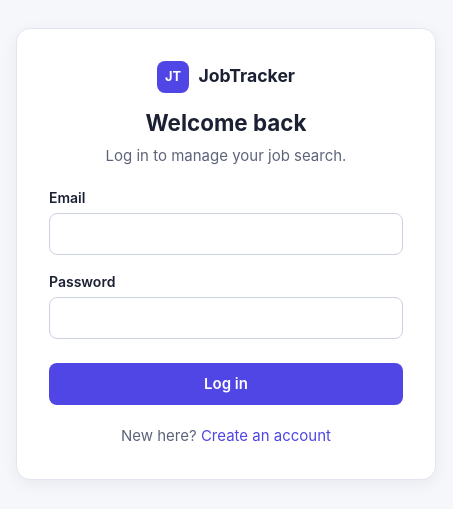
Scenario: Login page › rejects a malformed email address
Type "not-an-email" into the field labelled "Email" at point(226, 234), box [49,213,403,255]
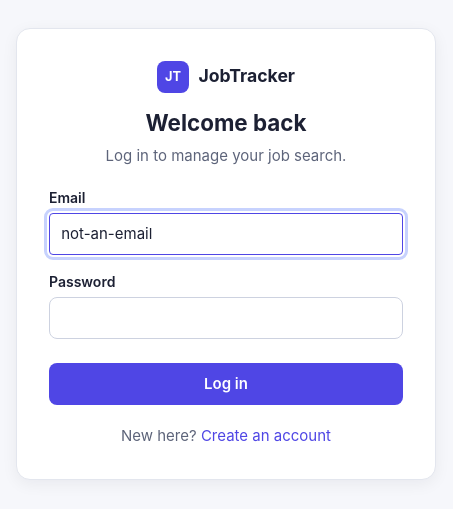
Type "Secret123" into the password field labelled "Password" at point(226, 318), box [49,297,403,339]
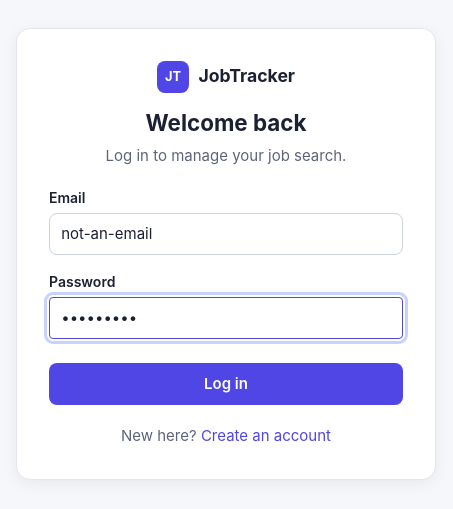
Click the button "Log in" at point(226, 384), box [49,363,403,405]
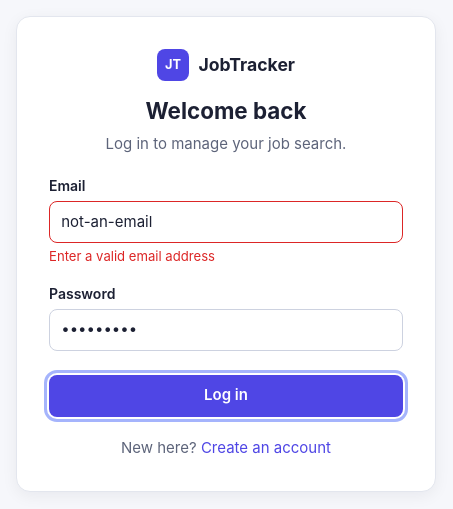
Result: the text "Enter a valid email address" is shown at [49,248,215,264]
